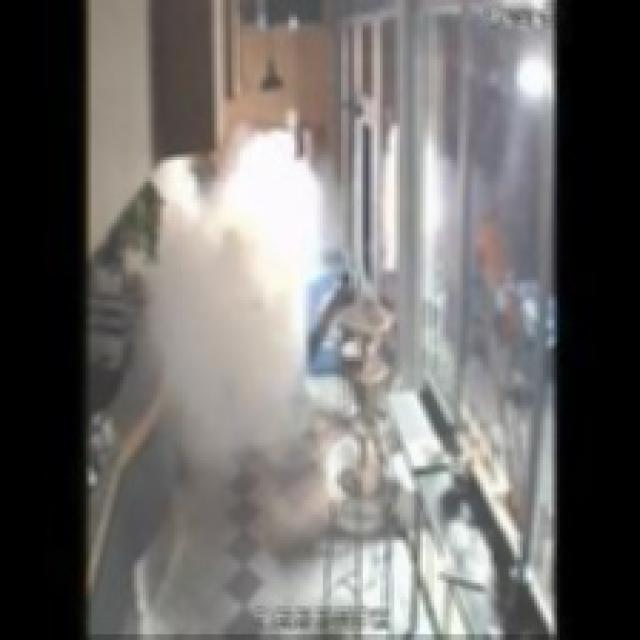smoke: (119, 97, 347, 526)
